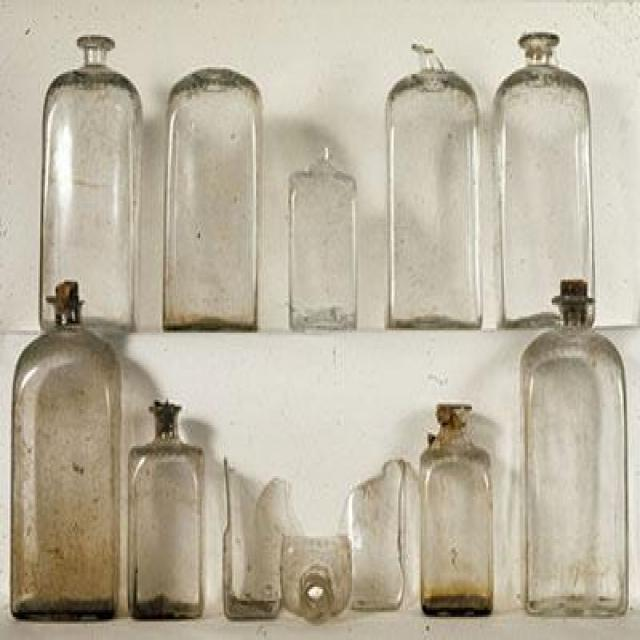non-organic waste: (3, 276, 120, 623), (521, 277, 633, 615), (489, 29, 598, 327), (39, 27, 140, 336), (383, 35, 484, 337), (158, 64, 264, 340), (416, 401, 498, 618), (287, 140, 364, 334), (220, 454, 289, 625)
